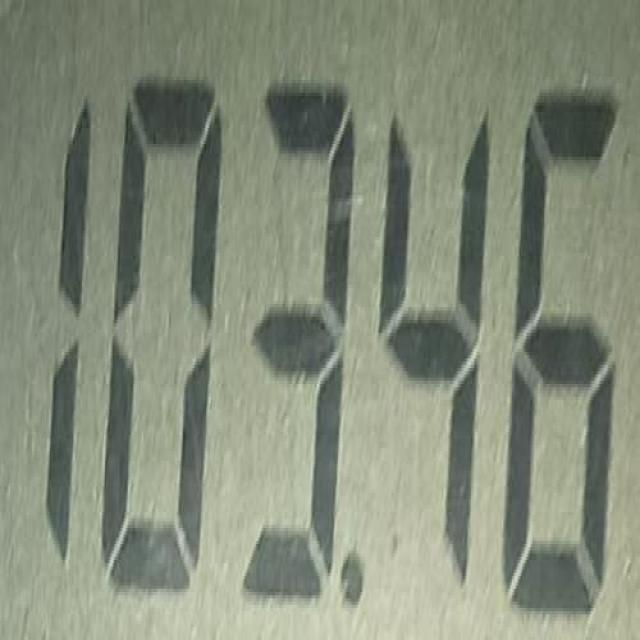.: (337, 544, 367, 622)
0: (102, 79, 224, 594)
1: (47, 96, 94, 578)
3: (244, 82, 357, 610), (377, 99, 489, 602)
6: (505, 85, 622, 621)
